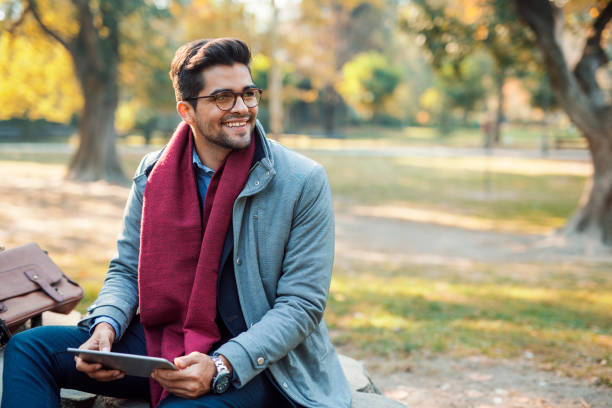person: (1, 32, 358, 408)
